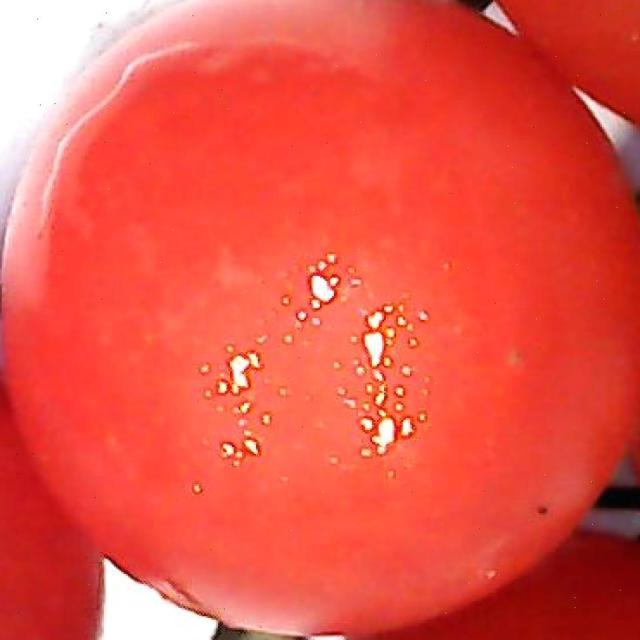Healthy Fruit: (2, 0, 427, 416)
